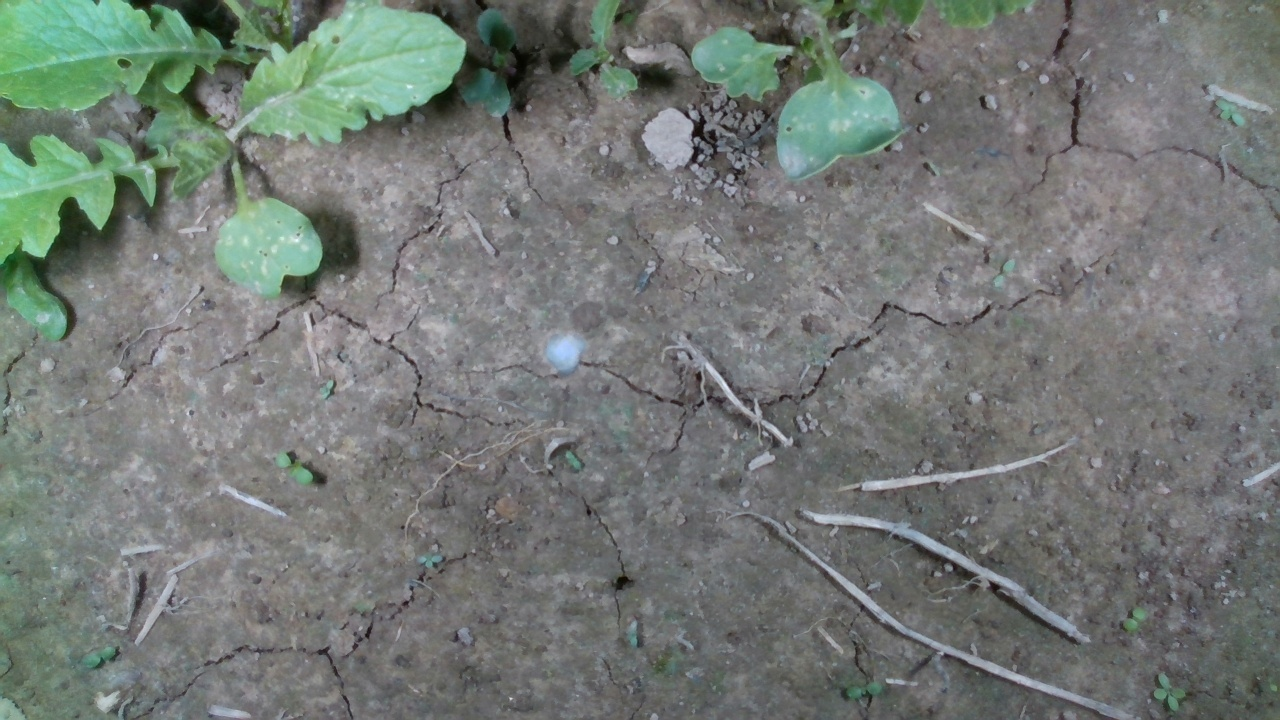weed: (267, 449, 318, 490)
